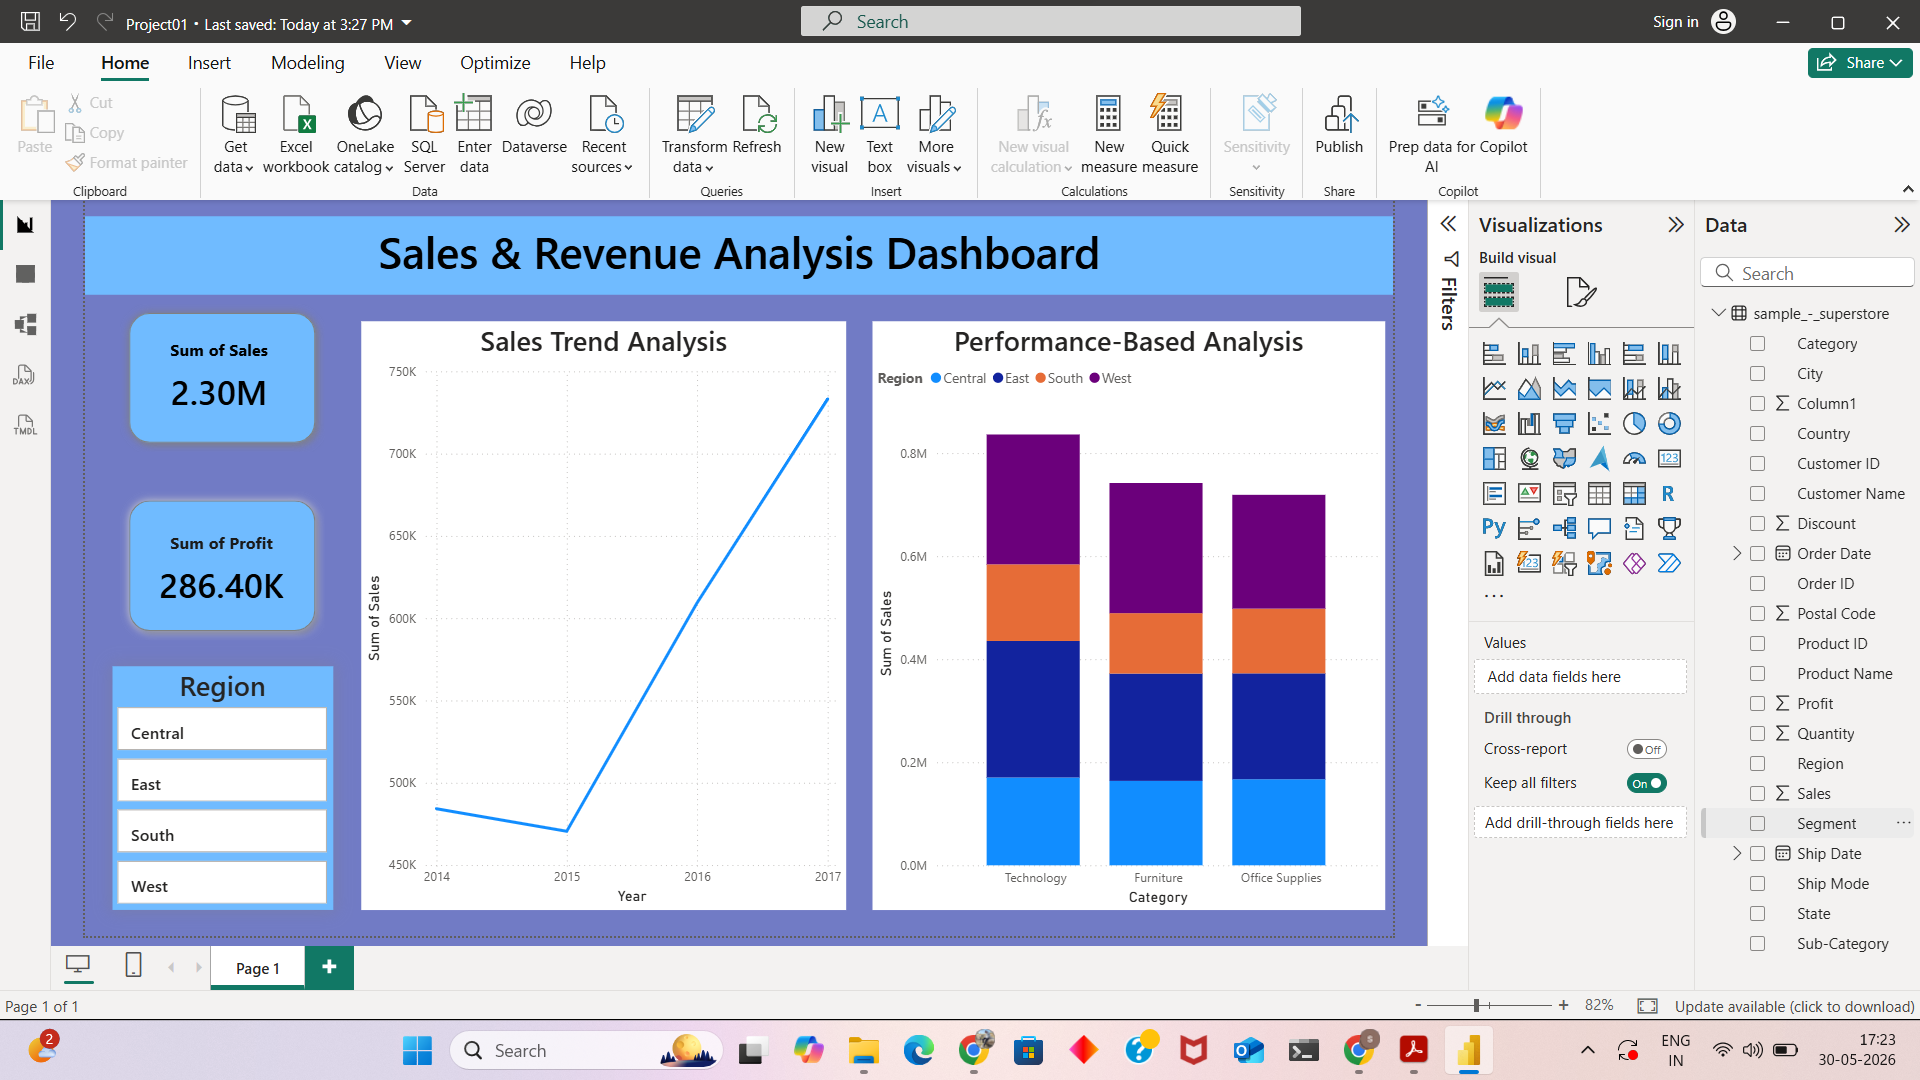

Layout of this report page (visuals, bound fields, positions):
{"tool":"powerbi","page":{"name":"Page 1","canvas":[1280,720],"ordinal":0},"visuals":[{"type":"group","id":"g1","title":"Group 1","box":[33.8,101.5,200.5,145.5],"z":0},{"type":"shape","box":[33.8,101.5,200,145],"z":0,"group":"g1"},{"type":"shape","box":[33.8,284.9,200,145.7],"z":0,"group":"g2"},{"type":"cardVisual","fields":{"Data":["Sum(sample_-_superstore.Sales)"]},"box":[58.7,118.6,145.7,101.4],"z":1000,"group":"g1"},{"type":"group","id":"g2","title":"Group 2","box":[33.8,284.9,200.5,145.5],"z":1000},{"type":"cardVisual","fields":{"Data":["Sum(sample_-_superstore.Profit)"]},"box":[52.4,306.3,162.9,104.3],"z":1000,"group":"g2"},{"type":"textbox","box":[0,15.7,1280,77.1],"z":2000},{"type":"advancedSlicerVisual","fields":{"Values":["sample_-_superstore.Region"]},"box":[27.1,455.7,215.7,238.6],"z":3000},{"type":"lineChart","title":"Sales Trend Analysis","fields":{"Category":["sample_-_superstore.Order Date.Variation.Date Hierarchy.Year","sample_-_superstore.Order Date.Variation.Date Hierarchy.Quarter","sample_-_superstore.Order Date.Variation.Date Hierarchy.Month","sample_-_superstore.Order Date.Variation.Date Hierarchy.Day"],"Y":["Sum(sample_-_superstore.Sales)"]},"box":[270.2,118.6,474.5,576],"z":4000},{"type":"columnChart","title":"Performance-Based Analysis","fields":{"Category":["sample_-_superstore.Category"],"Y":["Sum(sample_-_superstore.Sales)"],"Series":["sample_-_superstore.Region"]},"box":[770.4,118.6,501.4,576],"z":4001}]}

Visuals, with their boxes on the page's 1280x720 design canvas (x1, y1, x2, y2). These are canvas units, not pixel positions in the 1920x1080 screenshot, which may show the page scaled, cropped or inside an application window:
"Group 1" group: (34, 102, 234, 247)
shape: (34, 102, 234, 246)
shape: (34, 285, 234, 431)
cardVisual - Sum(sample_-_superstore.Sales): (59, 119, 204, 220)
"Group 2" group: (34, 285, 234, 430)
cardVisual - Sum(sample_-_superstore.Profit): (52, 306, 215, 411)
textbox: (0, 16, 1280, 93)
advancedSlicerVisual - sample_-_superstore.Region: (27, 456, 243, 694)
"Sales Trend Analysis" lineChart: (270, 119, 745, 695)
"Performance-Based Analysis" columnChart: (770, 119, 1272, 695)
